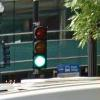Traffic light: (27, 18, 54, 77)
